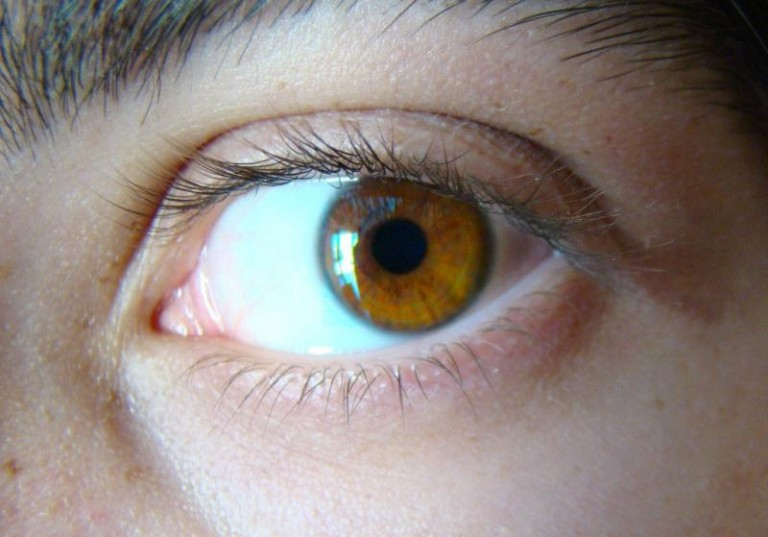iris: (315, 174, 495, 334)
pupil: (369, 216, 425, 274)
